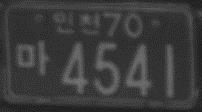0: (124, 12, 143, 39)
1: (158, 44, 185, 98)
4: (60, 41, 88, 93), (125, 44, 152, 97)
5: (94, 41, 120, 96)
7: (102, 11, 122, 36)
마: (15, 39, 50, 75)
인천_O: (52, 11, 100, 36)
